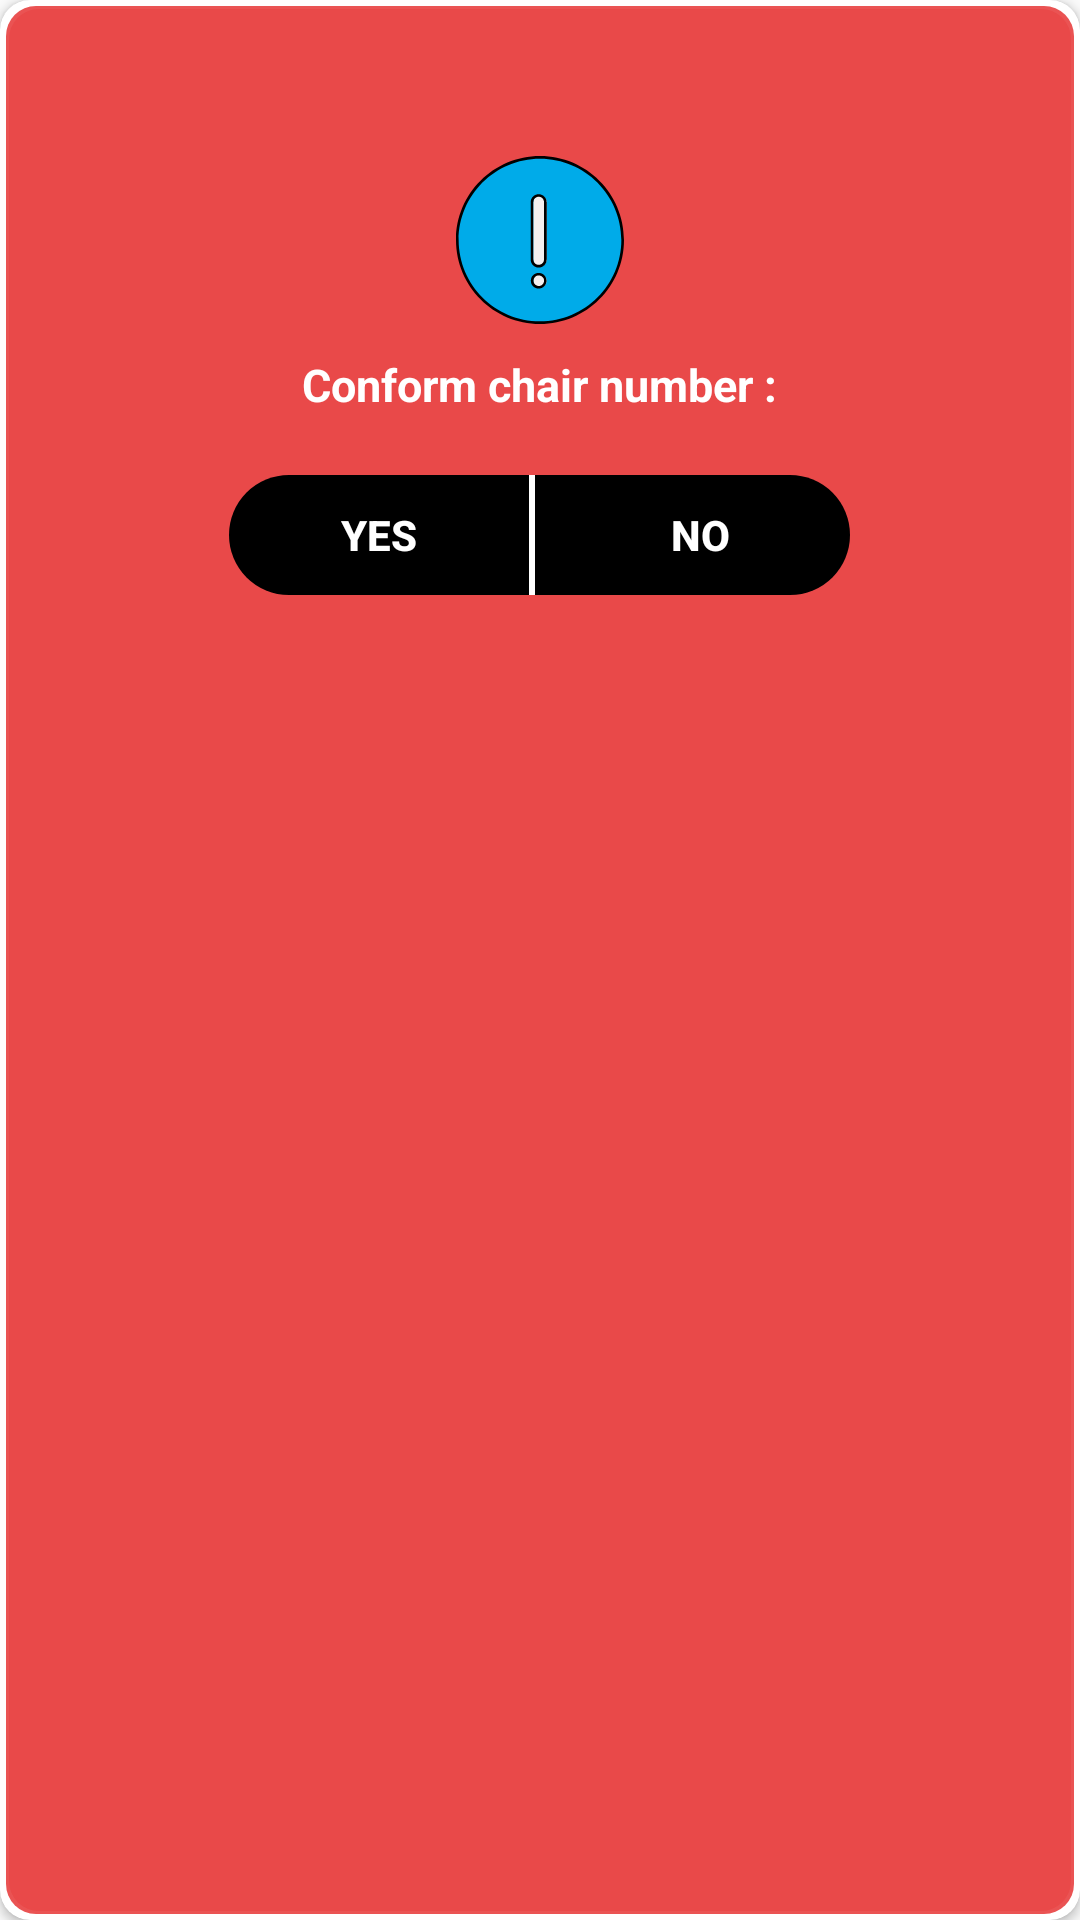

Named icons in this screenshot (1080x1920) and their bounding boxes, (x1, y1, x2, y2):
alert: (456, 156, 624, 324)
